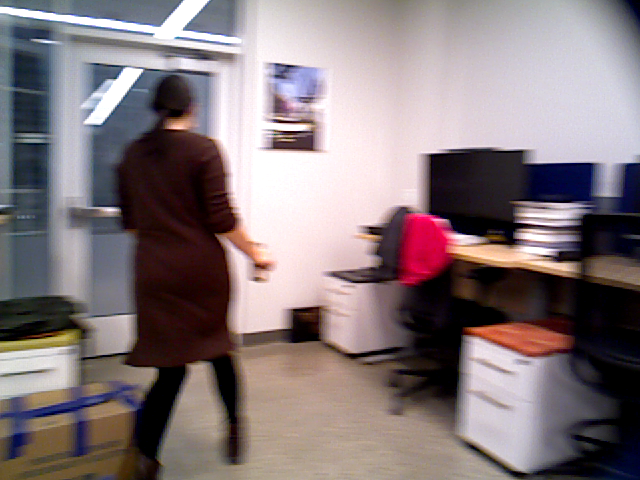painting3: (264, 61, 327, 153)
